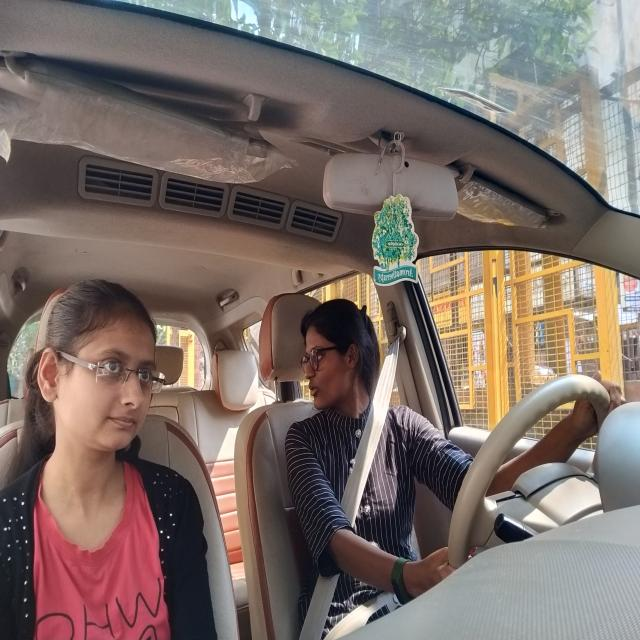LeftRight: (298, 305, 383, 419)
person: (43, 279, 164, 463)
